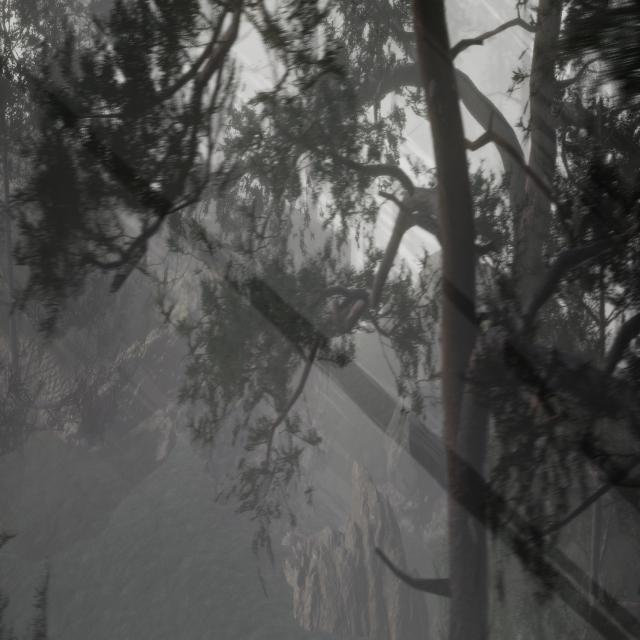Human: (310, 284, 333, 408)
